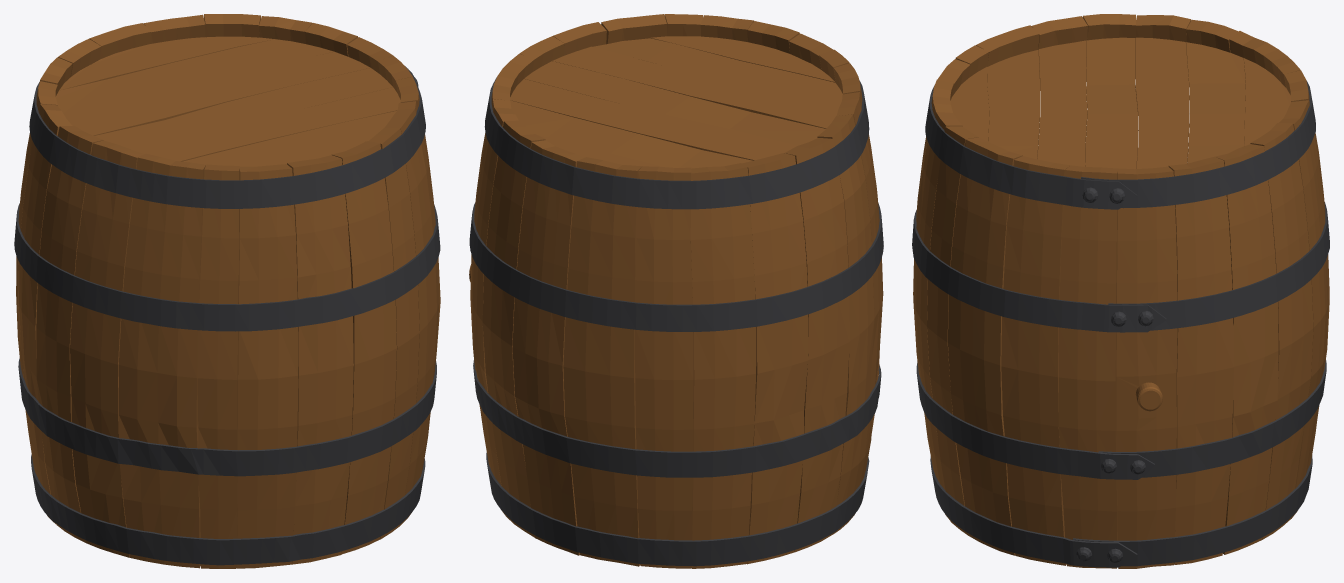
File: barrel.glb
3 renders of one model, left to right at view 1: azimuth 30°, elevation 25°; view 2: azimuth 150°, elevation 25°; view 3: azimuth 270°, elevation 25°, orthographic.
Visible parts, largest first — view 1: oak, iron; view 2: oak, iron; view 3: oak, iron.
Part boxes in pixels (x1,y1,x2,y2): oak: (16, 14, 440, 568); iron: (14, 66, 440, 565); oak: (469, 14, 883, 568); iron: (469, 77, 883, 566); oak: (913, 14, 1329, 568); iron: (912, 81, 1329, 567).
Size of the model in its own units: 0.8335 by 0.85 by 0.8062.
